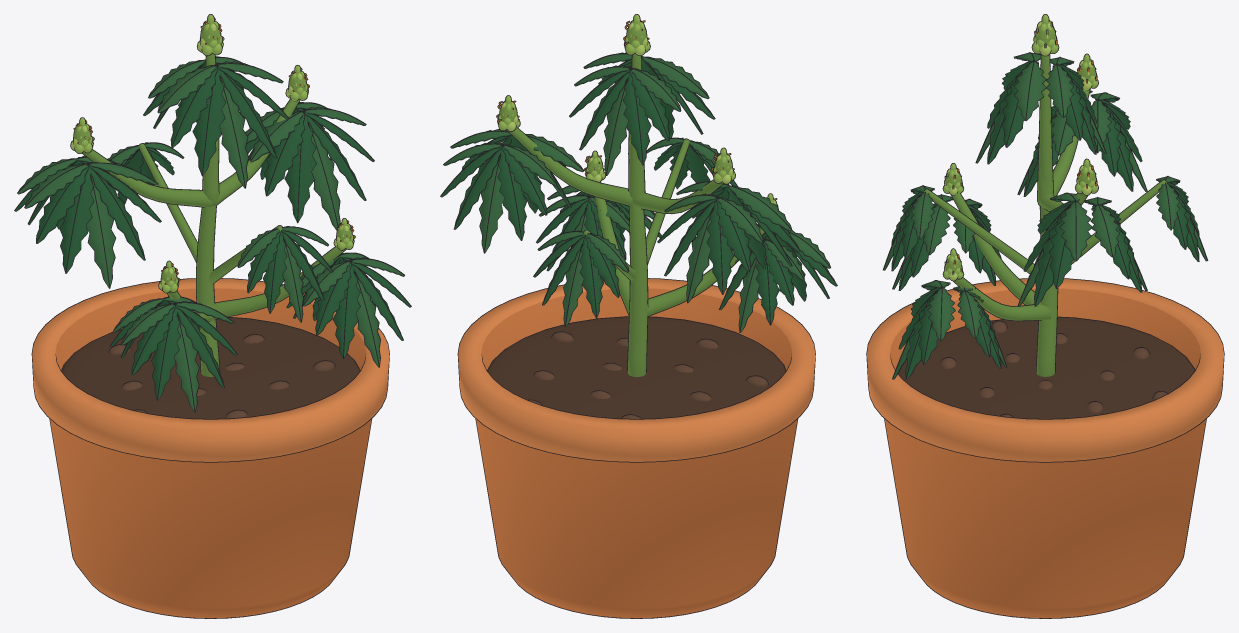
The model's file is cannabis_compact_growing_toon.glb.
The picture shows the model from 3 angles, left to right: view 1: azimuth 30°, elevation 25°; view 2: azimuth 150°, elevation 25°; view 3: azimuth 270°, elevation 25°; orthographic projection.
Visible parts, largest first — view 1: cannabis_compact_growing_Geometry; view 2: cannabis_compact_growing_Geometry; view 3: cannabis_compact_growing_Geometry.
Boxes of the visible parts, bbox=[...] form: cannabis_compact_growing_Geometry: bbox=[14, 14, 411, 618]; cannabis_compact_growing_Geometry: bbox=[440, 14, 837, 618]; cannabis_compact_growing_Geometry: bbox=[866, 14, 1224, 618].
Size of the model in its own units: 0.4293 by 0.6603 by 0.3892.
